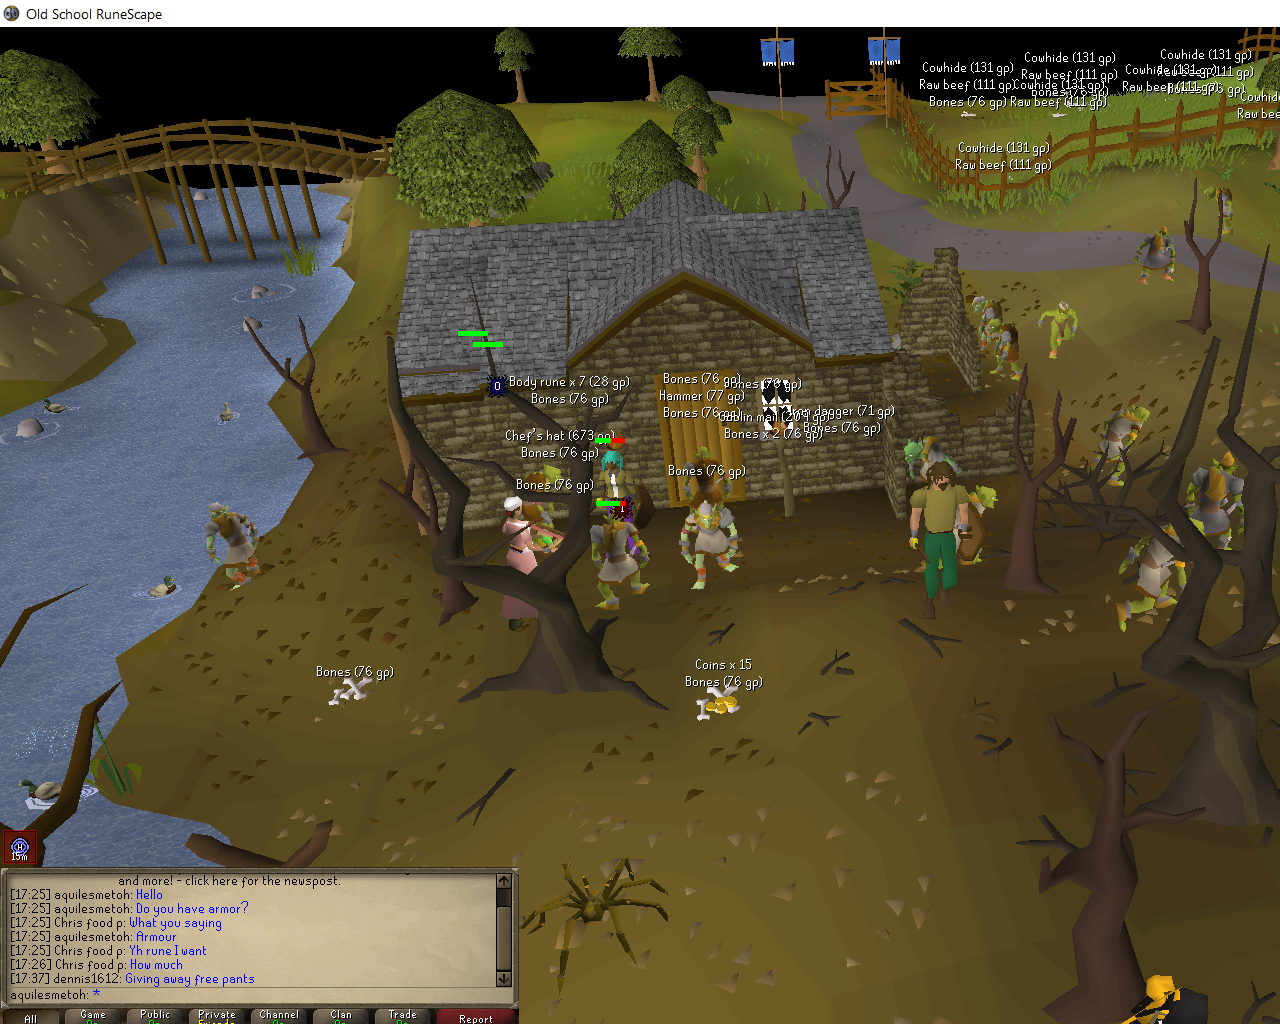Goblin: (1112, 517, 1206, 632), (673, 497, 744, 594), (583, 510, 651, 610), (1185, 450, 1250, 552), (200, 502, 269, 594), (942, 483, 1001, 568), (1095, 406, 1151, 488), (679, 445, 734, 520), (902, 434, 964, 496), (987, 318, 1035, 383), (1038, 297, 1083, 360), (1134, 224, 1178, 288), (971, 290, 1010, 354), (1203, 185, 1238, 239)
